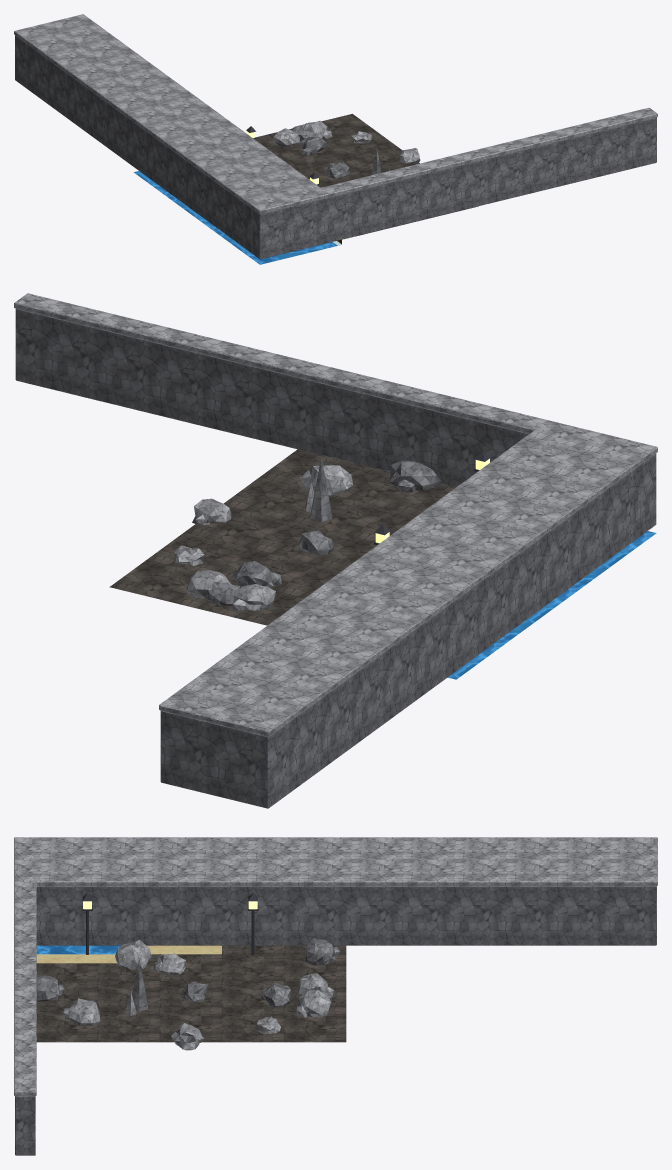
Rendered from chunk_4_19.glb.
3 views of the same model, one above another, from view 1: azimuth 30°, elevation 25°; view 2: azimuth 150°, elevation 25°; view 3: azimuth 270°, elevation 25° (orthographic). The views are drawn at different scales.
Parts seen in each view (by area): view 1: chunk_4_19; view 2: chunk_4_19; view 3: chunk_4_19.
Part boxes in pixels (x1,y1,x2,y2): chunk_4_19: (14, 14, 657, 264); chunk_4_19: (14, 293, 657, 808); chunk_4_19: (14, 837, 657, 1155).
Size of the model in its own units: 29.1 by 4.03 by 31.1.
11 materials, 8 textured.
